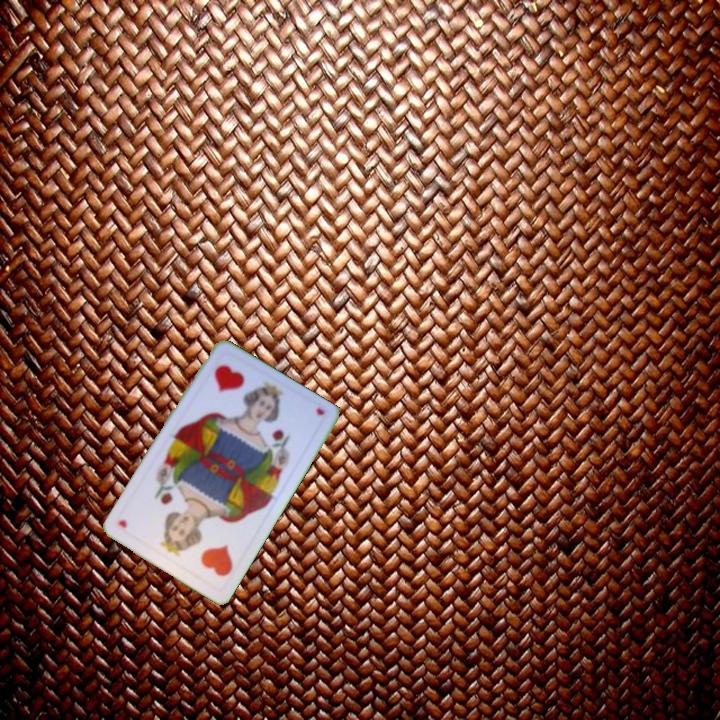h_q.png: (192, 348, 277, 431), (165, 511, 250, 593)
